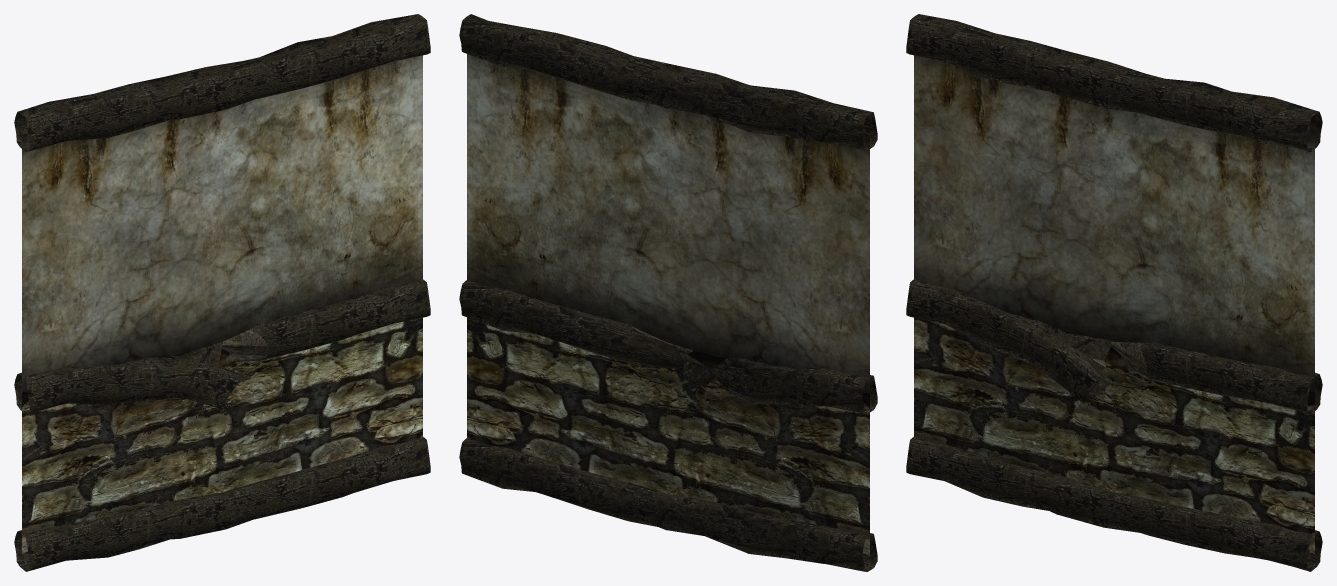
The model's file is default_decayed01.dae.
3 renders of one model, left to right at view 1: azimuth 30°, elevation 25°; view 2: azimuth 150°, elevation 25°; view 3: azimuth 330°, elevation 25°, orthographic.
Visible parts, largest first — view 1: pPlane2, polySurface6; view 2: pPlane2, polySurface6; view 3: pPlane2, polySurface6.
Part boxes in pixels (x1,y1,x2,y2): pPlane2: [22, 55, 422, 554]; polySurface6: [14, 14, 430, 571]; pPlane2: [467, 54, 869, 556]; polySurface6: [459, 14, 877, 571]; pPlane2: [914, 55, 1314, 554]; polySurface6: [906, 14, 1322, 571].
Bounding box in the file's own units: 4 × 4.43 × 0.4781.
